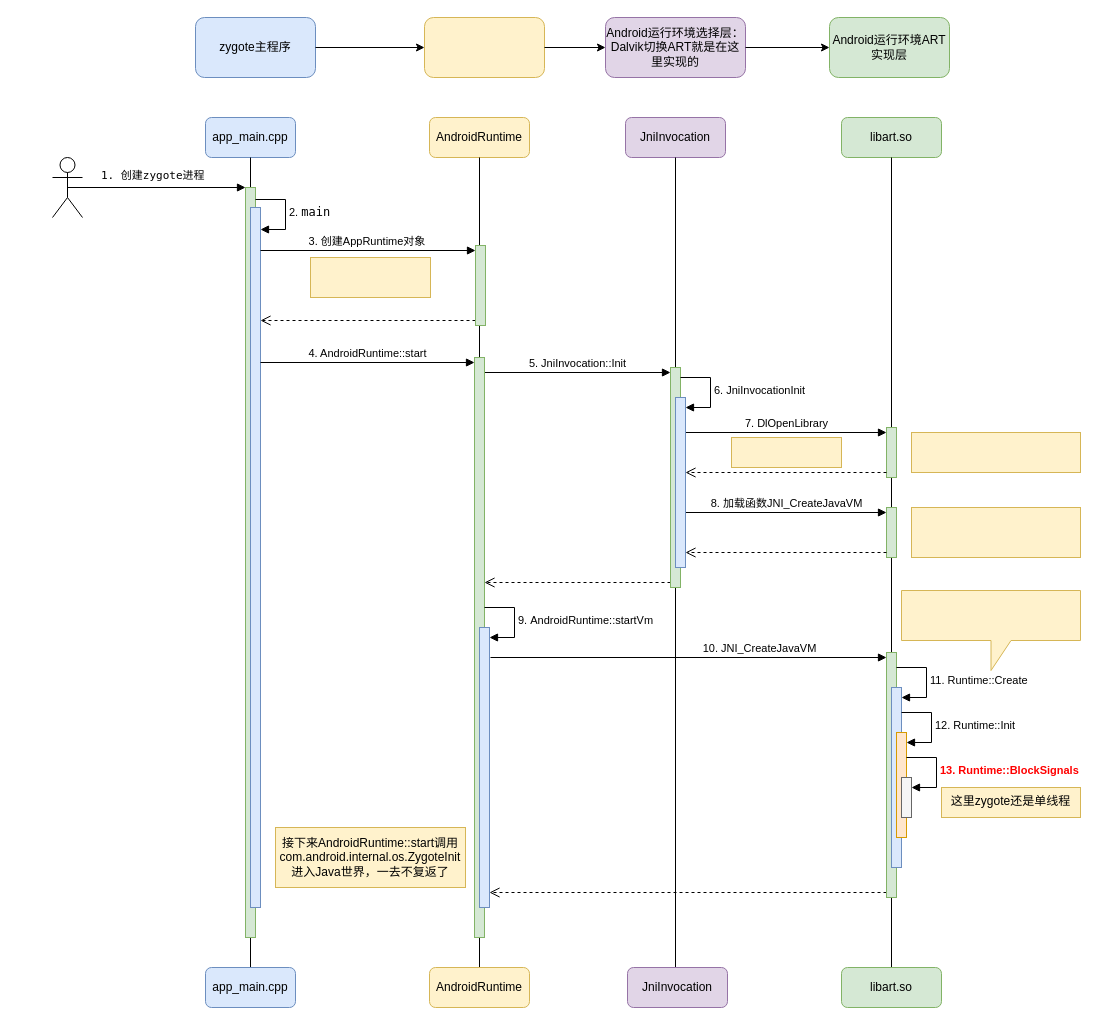
This 1117x1025 diagram has some shape labels left out. Each missing label, with the centre of its shape:
"Android运行环境 封装抽象层" goes at (484,47).
"AppRuntime继承了AndroidRuntime" goes at (370,277).
"init.zygote64_32.rc" goes at (67,187).
"java_vm_ext.cc打包在libart.so" goes at (995,452).
"JNI_CreateJavaVM的实现在java_vm_ext.cc中" goes at (995,532).
"加载libart.so" goes at (786,452).
"这里的Runtime是ART的具体实现，位于art/runtime/runtime.cc" goes at (990,630).
